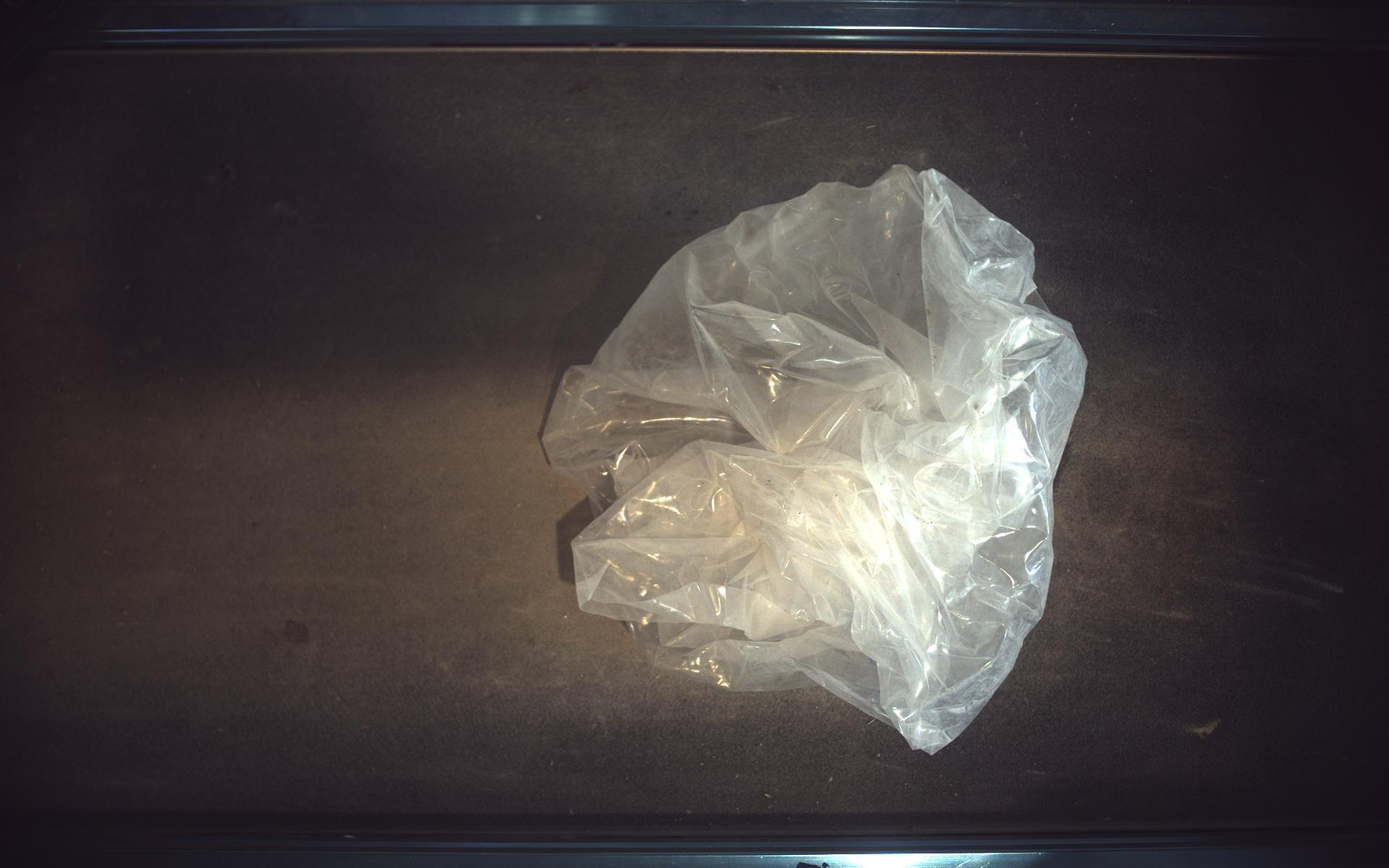general_w: (544, 164, 1089, 754)
